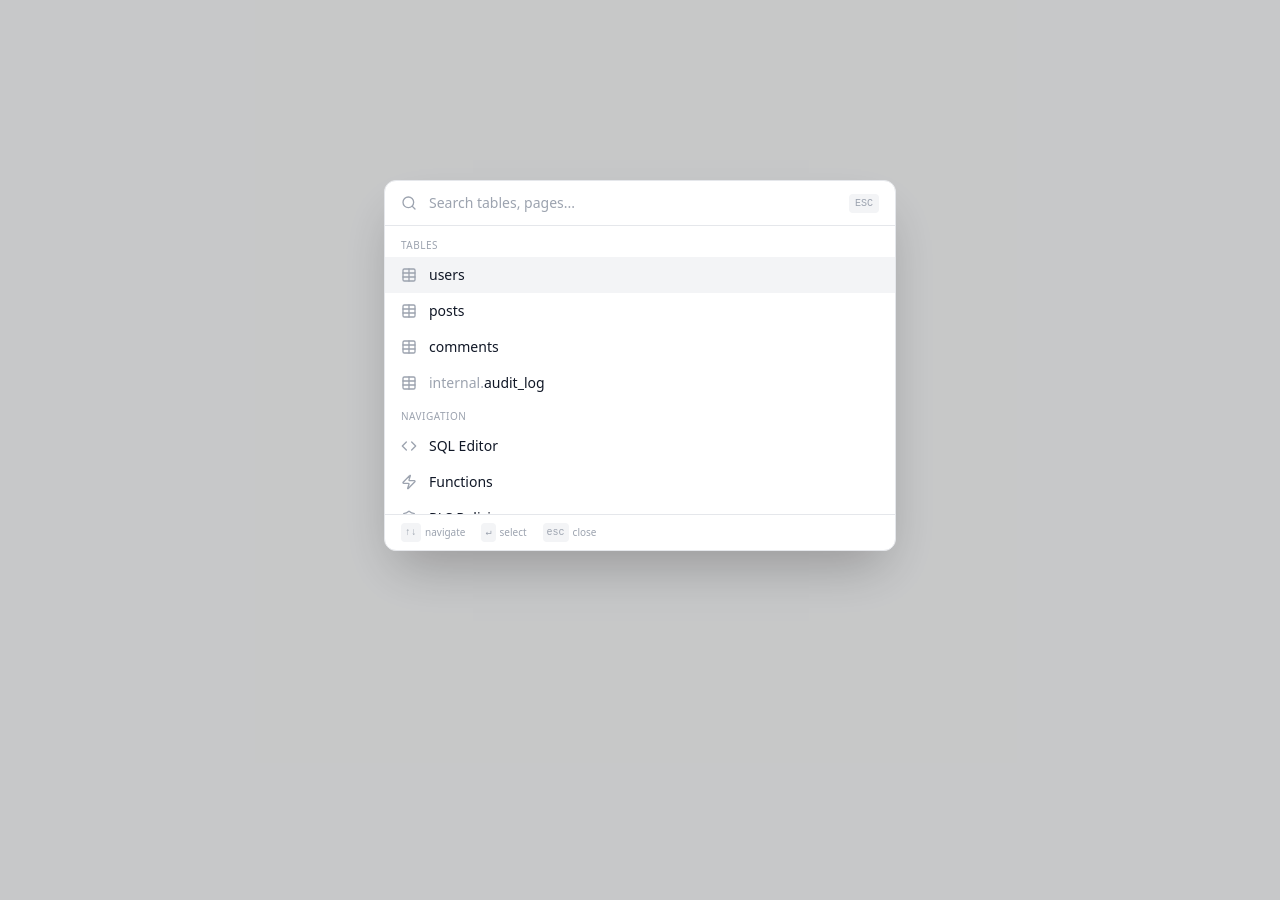
Test: CommandPalette › filters items as user types
The width and height of the screenshot is (1280, 900).
Type "user" into the field with placeholder "Search tables, pages..." at (633, 203), box [429,193,837,213]
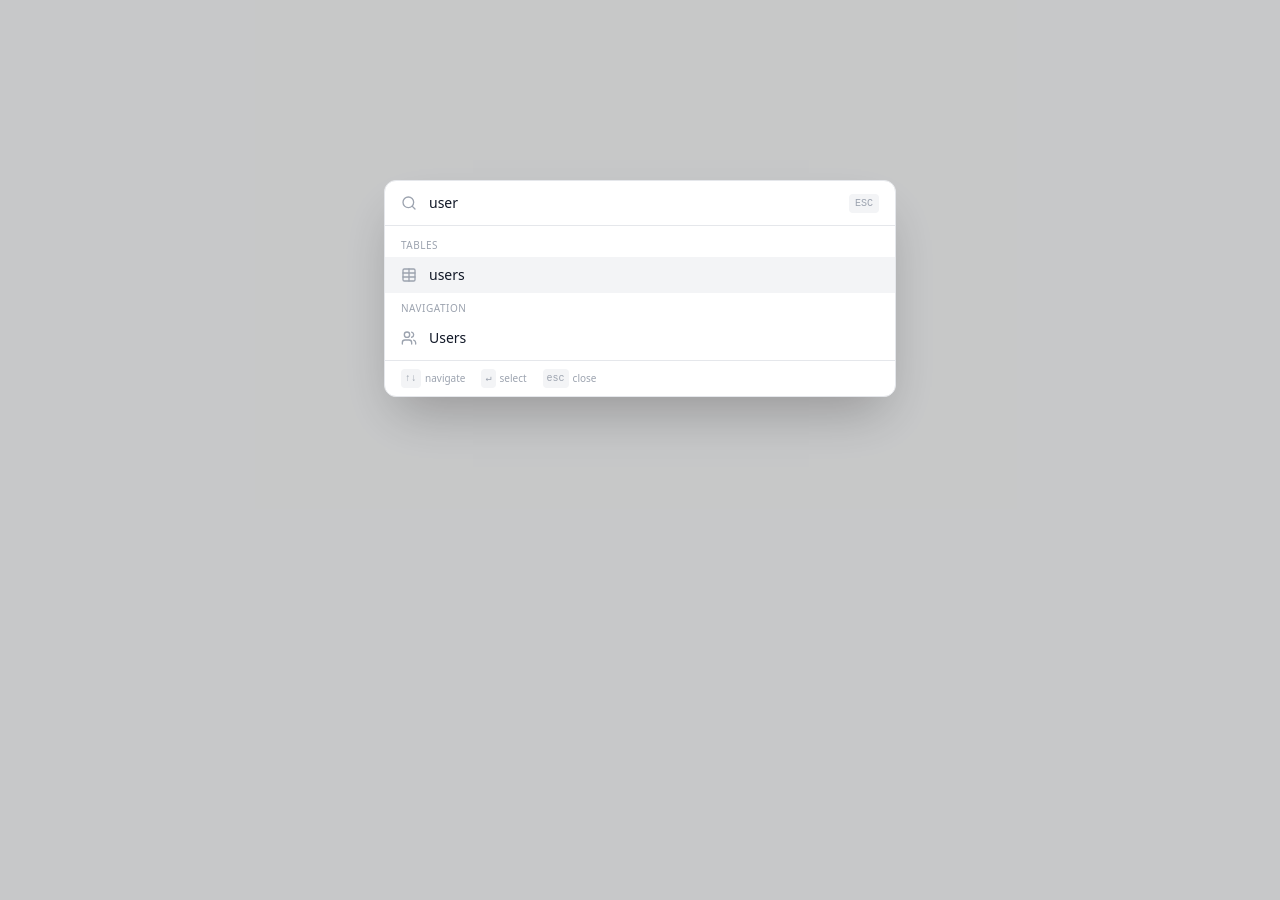
expect the text "users" is shown: met, box [429,265,465,284]
expect the button "posts" is gone: met
expect the button "comments" is gone: met
